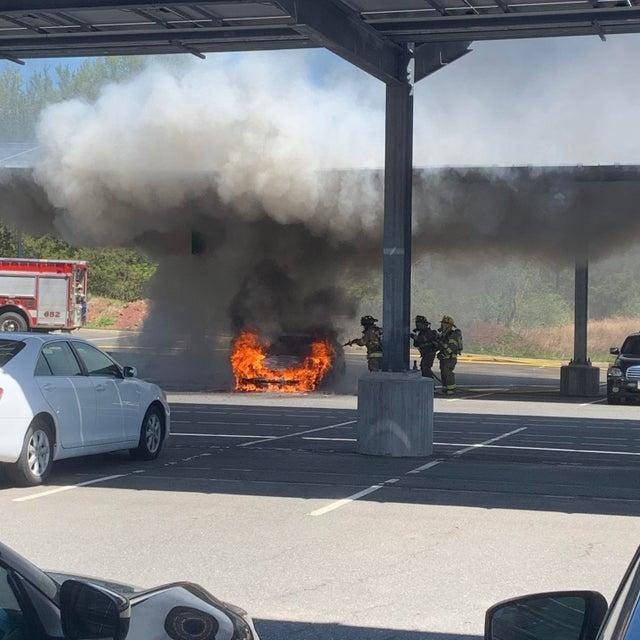Fire: (213, 320, 346, 414)
Smoke: (32, 62, 382, 256), (402, 126, 570, 294)
